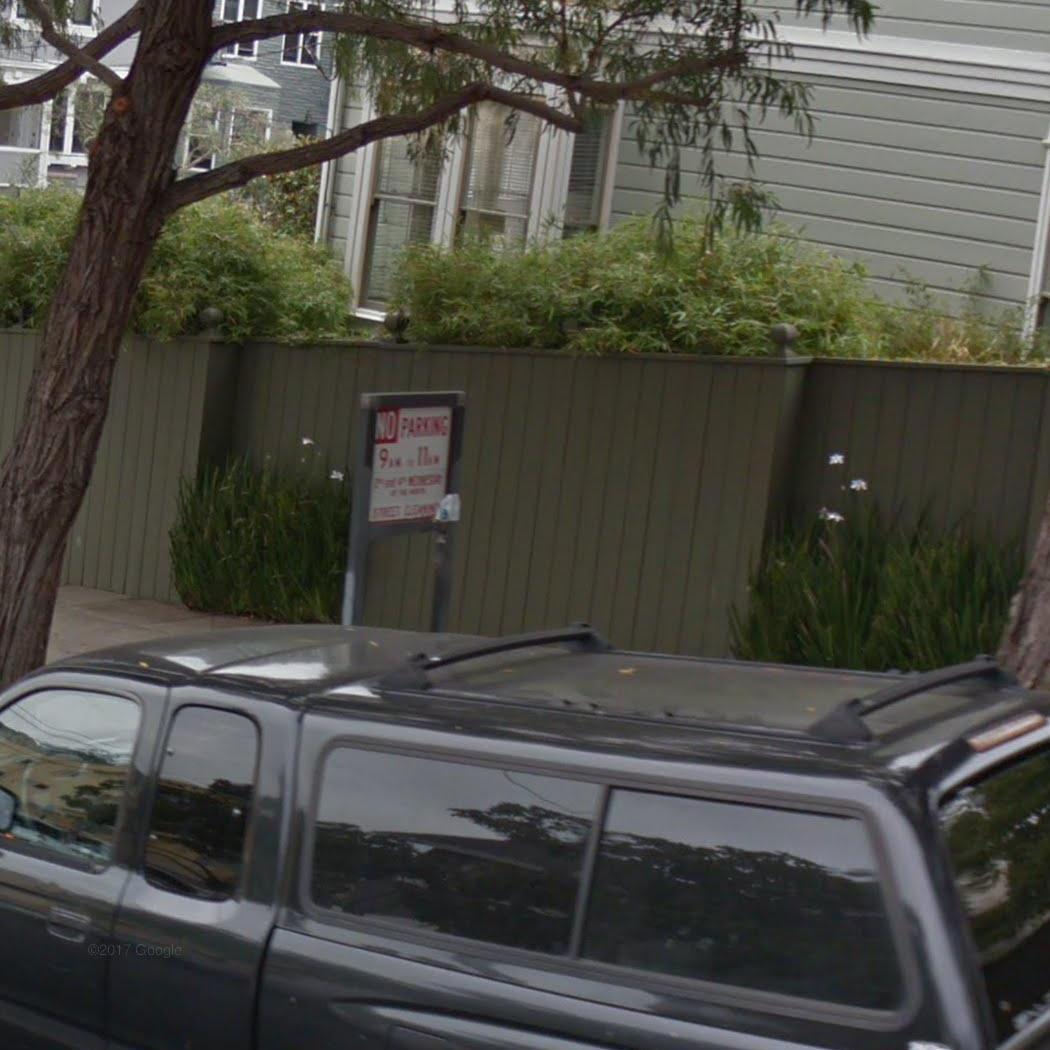No Parking: (356, 401, 458, 528)
